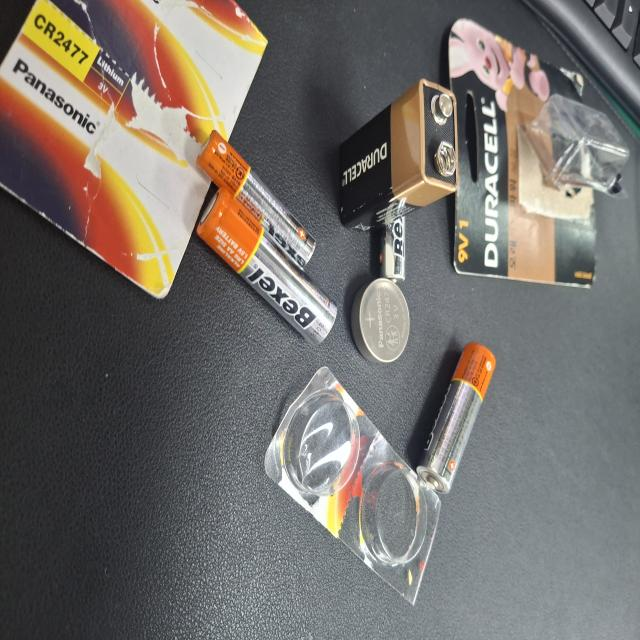9V: (59, 242, 172, 400)
AA: (143, 404, 258, 590), (257, 192, 370, 298)
AAA: (98, 433, 200, 590), (163, 312, 212, 346)
COIN: (210, 308, 272, 384)
